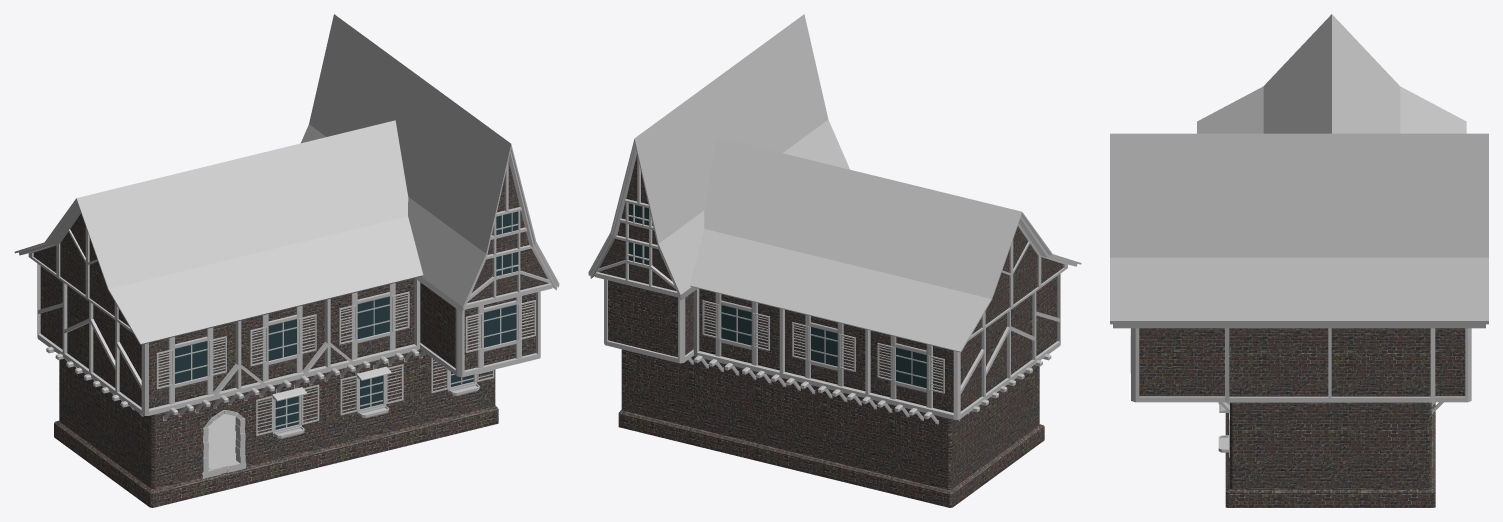
Rendered from HouseP.fbx.
The picture shows the model from 3 angles, left to right: view 1: azimuth 30°, elevation 25°; view 2: azimuth 150°, elevation 25°; view 3: azimuth 270°, elevation 25°; orthographic projection. The views are drawn at different scales.
Parts seen in each view (by area): view 1: Roof, LeftRoof, BottomS, TOp, TopWood, WindowTop1, BottomB, WindowBottom, Left1, RoofWood, Window, Left2 (+3 smaller); view 2: Roof, BottomS, LeftRoof, TOp, TopWood, WindowTop2, BottomB, Left1, RoofWood, Left2, LeftWood; view 3: LeftRoof, Left1, BottomS, Roof, BottomB, TopWood.
Boxes of the visible parts, x1,y1,x2,y2 form: Roof: (14, 120, 423, 344); LeftRoof: (301, 14, 559, 313); BottomS: (59, 349, 495, 489); TOp: (40, 266, 414, 408); TopWood: (37, 263, 540, 420); WindowTop1: (156, 283, 409, 404); BottomB: (54, 405, 498, 507); WindowBottom: (256, 357, 494, 438); Left1: (420, 282, 535, 370); RoofWood: (28, 210, 133, 333); Window: (465, 296, 535, 368); Left2: (467, 161, 548, 302); Roof: (689, 137, 1081, 352); BottomS: (621, 349, 1039, 489); LeftRoof: (588, 14, 849, 300); TOp: (699, 276, 1057, 412); TopWood: (604, 274, 1060, 424); WindowTop2: (702, 293, 944, 408); BottomB: (618, 409, 1044, 507); Left1: (608, 280, 693, 357); RoofWood: (968, 223, 1067, 340); Left2: (599, 154, 676, 290); LeftWood: (595, 156, 679, 297); LeftRoof: (1110, 133, 1488, 328); Left1: (1139, 328, 1465, 396); BottomS: (1230, 402, 1431, 489); Roof: (1197, 14, 1466, 133); BottomB: (1225, 403, 1435, 507); TopWood: (1131, 328, 1471, 414).
Size of the model in its own units: 1557 by 1293 by 1261.
